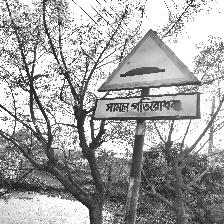Speed-breaker: (95, 29, 204, 122)
